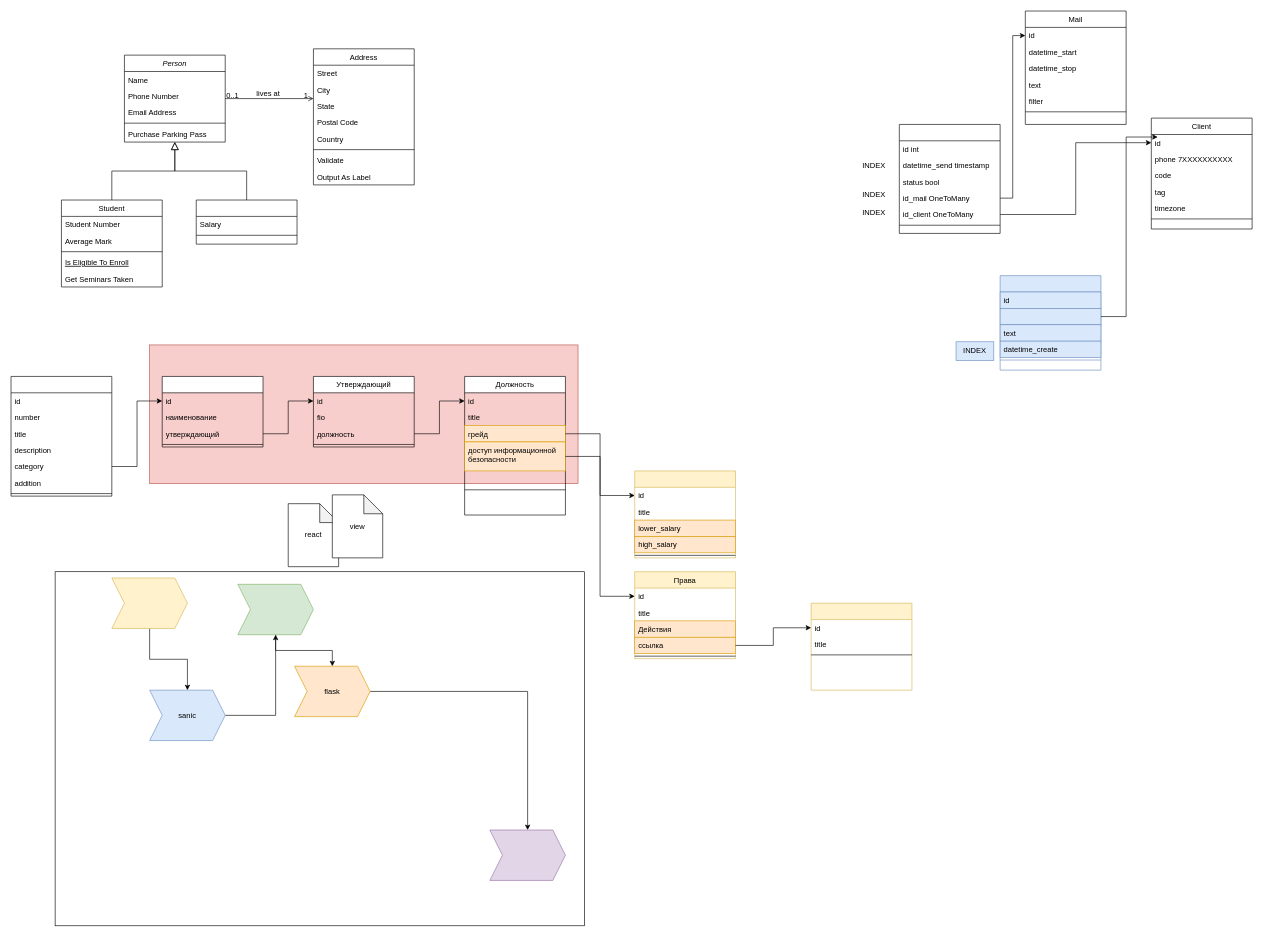
The diagram is 1263 pixels wide and 937 high, and some of its shapes have lost their labels. The shapes that lost their labels are listed below. From the top down, each one's box as (x1, y1, x2, y2) in pixels, then its label:
(899, 124, 1000, 233): Message
(196, 199, 297, 244): Professor
(999, 308, 1101, 325): author
(999, 275, 1101, 370): Comment
(162, 376, 263, 447): Категория
(10, 376, 112, 496): Document
(634, 470, 736, 558): Грейды
(111, 577, 187, 628): django
(237, 584, 313, 635): fastapi
(810, 603, 912, 690): Ссылки
(489, 829, 565, 880): gin
